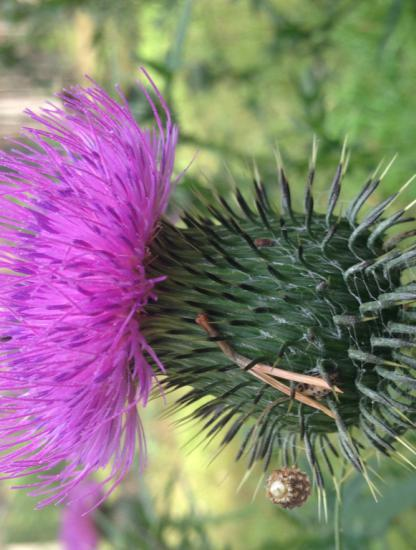Pineapple: (263, 461, 315, 513)
